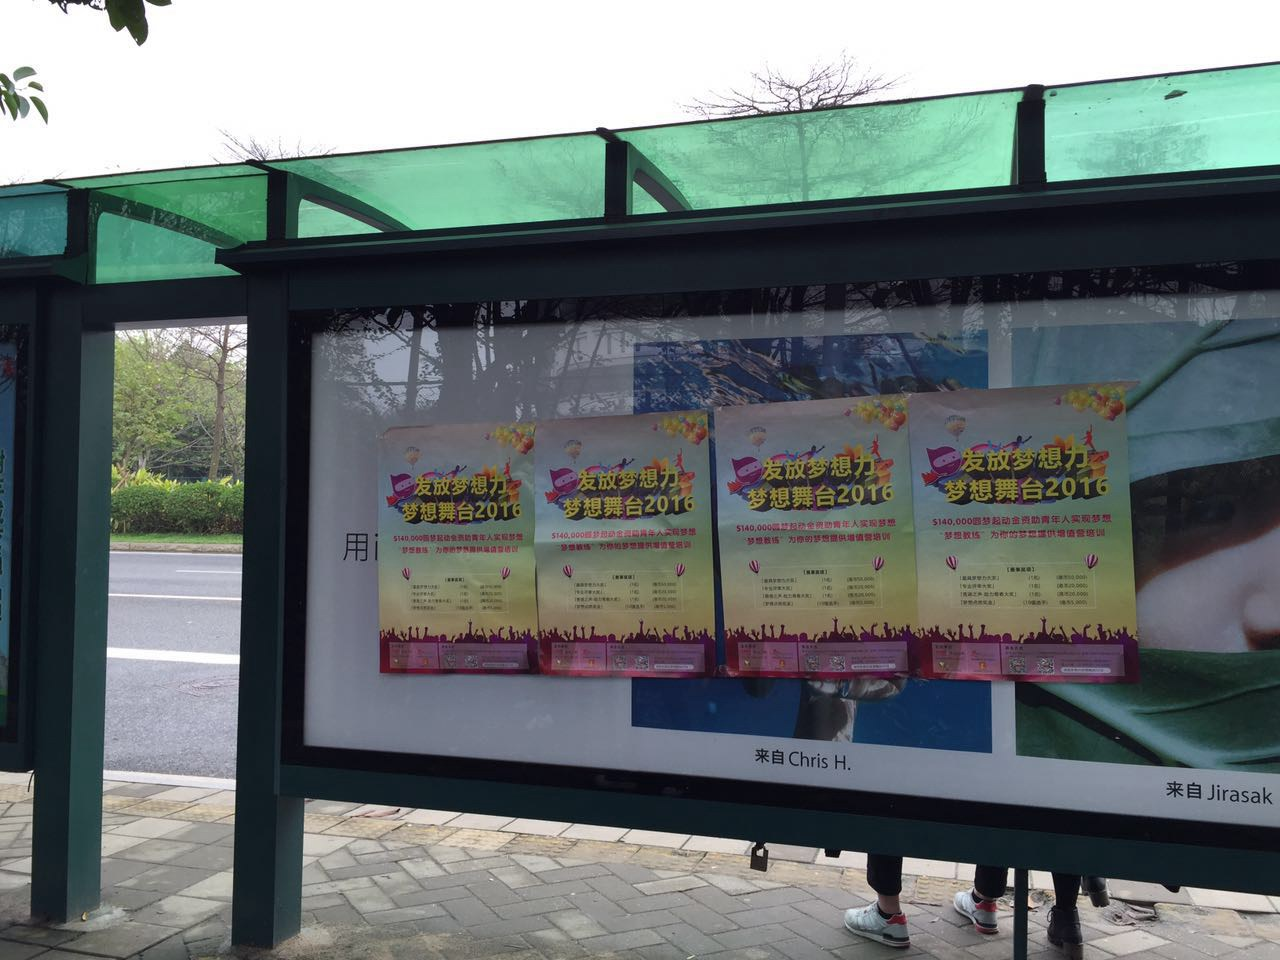bill: (915, 386, 1133, 688), (715, 395, 913, 677), (537, 411, 718, 682), (376, 419, 532, 674)
